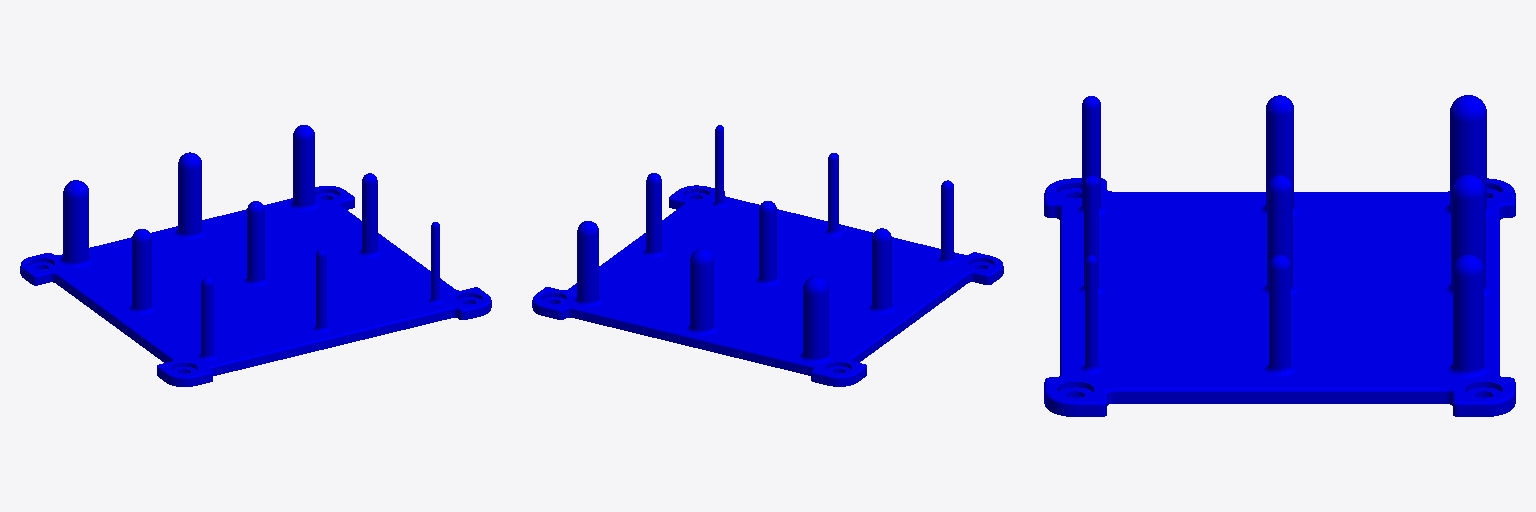
robot.urdf — spherical_probe.urdf:
<?xml version="1.0" ?>
<robot name="spherical_probe.urdf">

  <link name="spherical_probe">
    <contact>
    	<friction_anchor/>
    	   <lateral_friction value="1.0"/>
    </contact>
    <inertial>
      <origin rpy="0 0 0" xyz="0 0 0"/>
       <mass value=".1"/>
       <inertia ixx="1" ixy="0" ixz="0" iyy="1" iyz="0" izz="1"/>
    </inertial>
    <visual>
      <origin rpy="0 0 0" xyz="0 0 0"/>
      <geometry>
				<mesh filename="spherical_probe.obj" scale="1.0 1.0 1.0"/>
      </geometry>
       <material name="blue">
        <color rgba="0 0 1 1.0"/>
      </material>
    </visual>
    <collision>
      <origin rpy="0 0 0" xyz="0 0 0"/>
      <geometry>
				<mesh filename="spherical_probe.obj" scale="1.0 1.0 1.0"/>
      </geometry>
    </collision>
  </link>


</robot>

--- What the picture shows (computed from the rendered views, not written in the file) ---
Views: 3 orthographic renders of the robot side by side, from view 1: azimuth 30°, elevation 25°; view 2: azimuth 150°, elevation 25°; view 3: azimuth 270°, elevation 25°.
Robot: spherical_probe.urdf — 1 links, 0 joints (none); root link spherical_probe; default pose: every joint at zero.
Visible links, largest first — view 1: spherical_probe; view 2: spherical_probe; view 3: spherical_probe.
Boxes of the visible links, box(x1,y1,x2,y2) form: spherical_probe: box(20, 125, 491, 386); spherical_probe: box(532, 125, 1003, 386); spherical_probe: box(1044, 95, 1515, 416).
Size in the robot's own frame: 0.17 by 0.15 by 0.045 metres.
Meshes: 1 distinct files referenced, 1 mesh visuals loaded (1 OBJ).